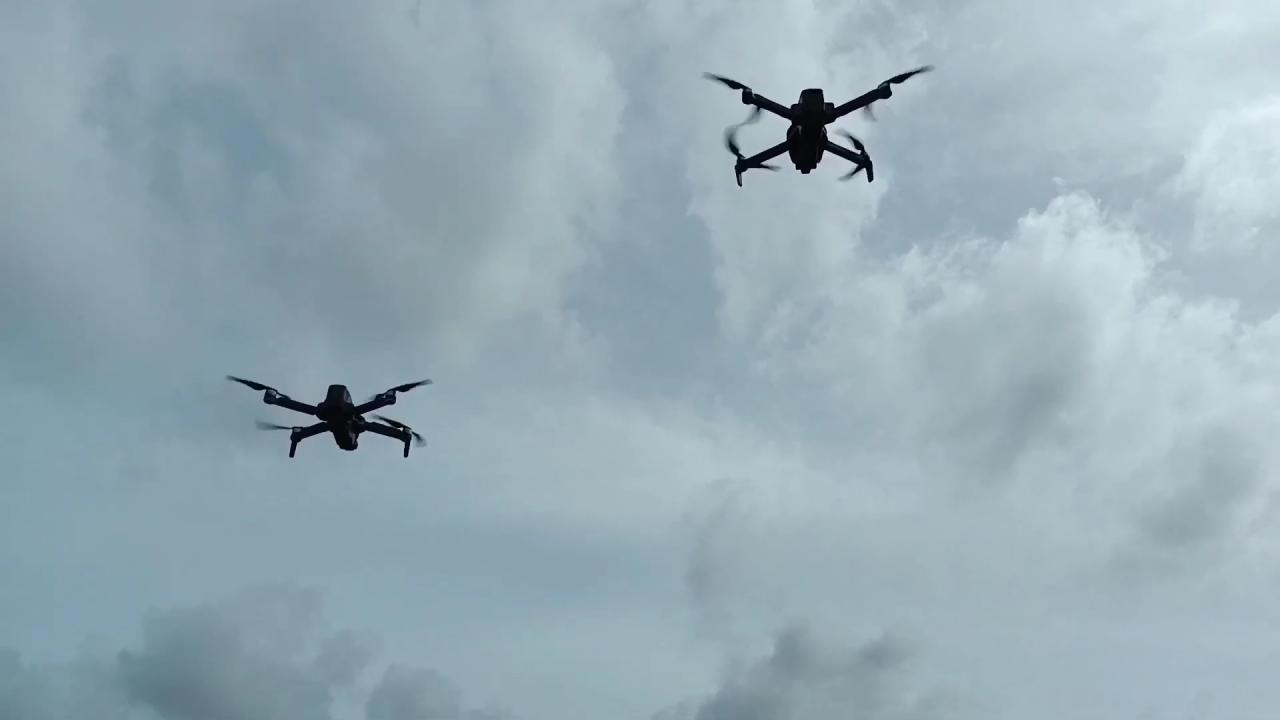Drone: (688, 48, 942, 200), (214, 356, 451, 474)
